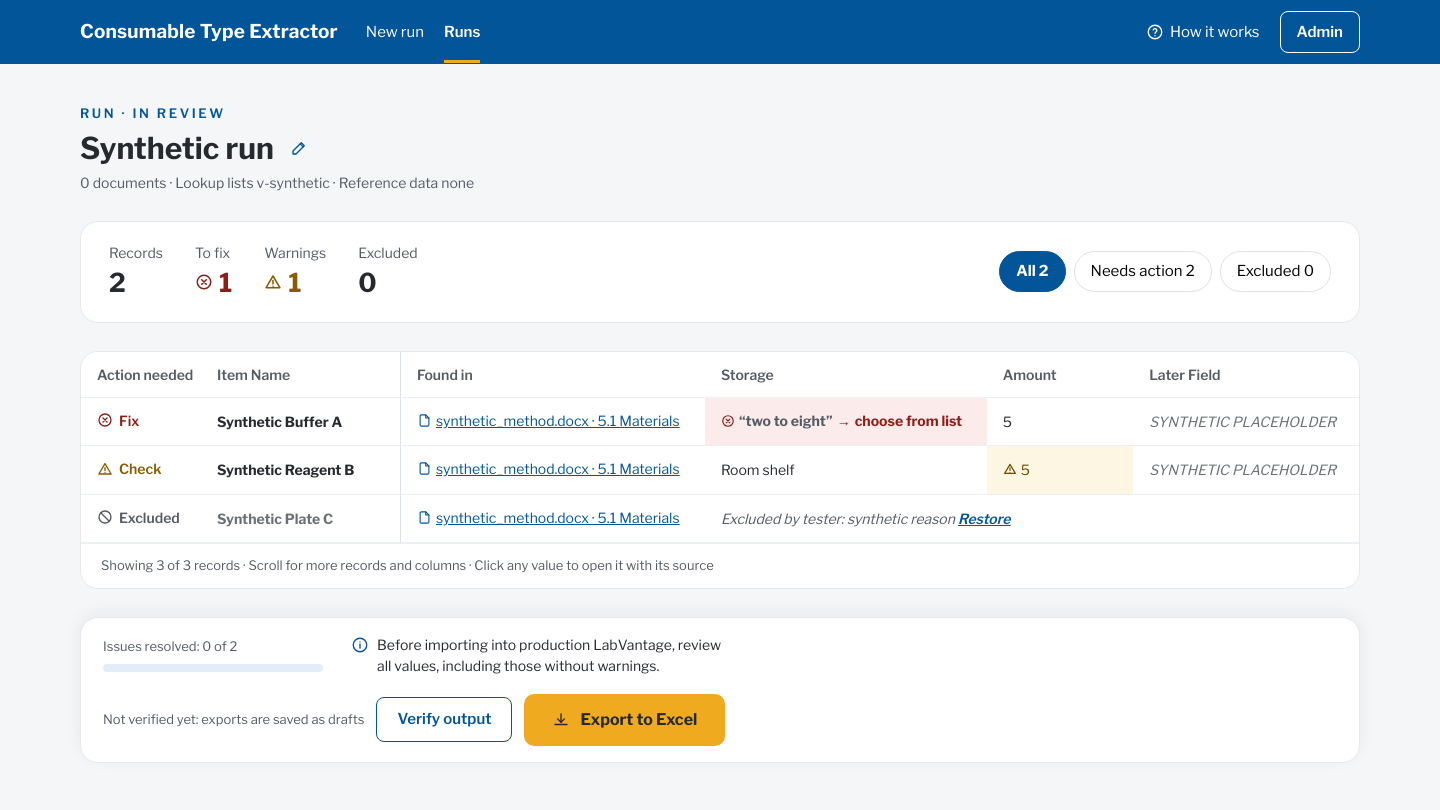
Test case: Review grid › filters to records that need action and to excluded records
The image size is (1440, 810).
Expected: the text "Synthetic Plate C" is shown, x1=217 y1=508 x2=333 y2=529
Expected: the text "Excluded by tester: synthetic reason Restore" is shown, x1=705 y1=494 x2=1359 y2=543
Step 1. Click the button "Needs action 2" → (1143, 272), box x1=1074 y1=251 x2=1212 y2=292
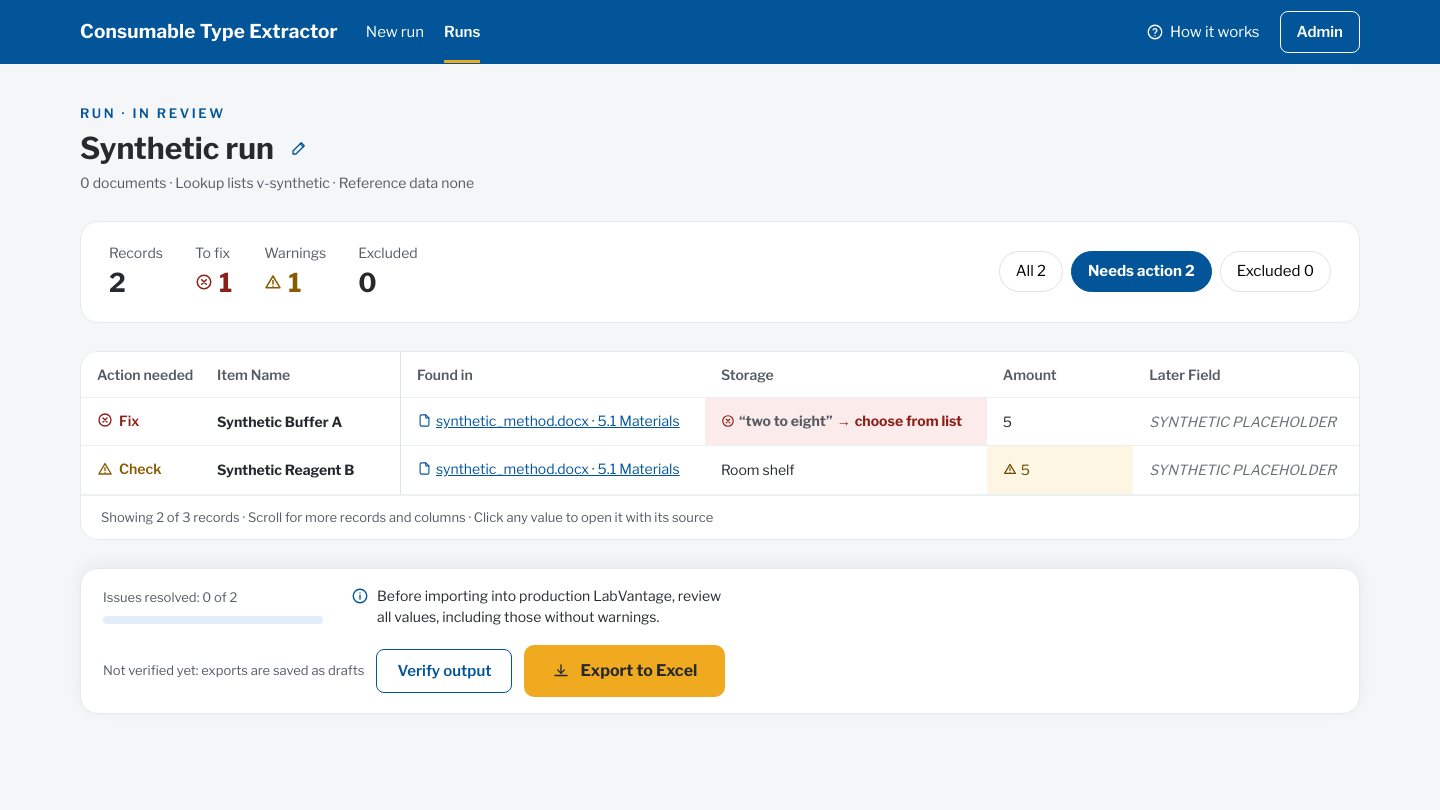
Result: the text "Synthetic Plate C" is gone
Step 2. Click the button "Excluded 0" → (1275, 272), box x1=1220 y1=251 x2=1331 y2=292
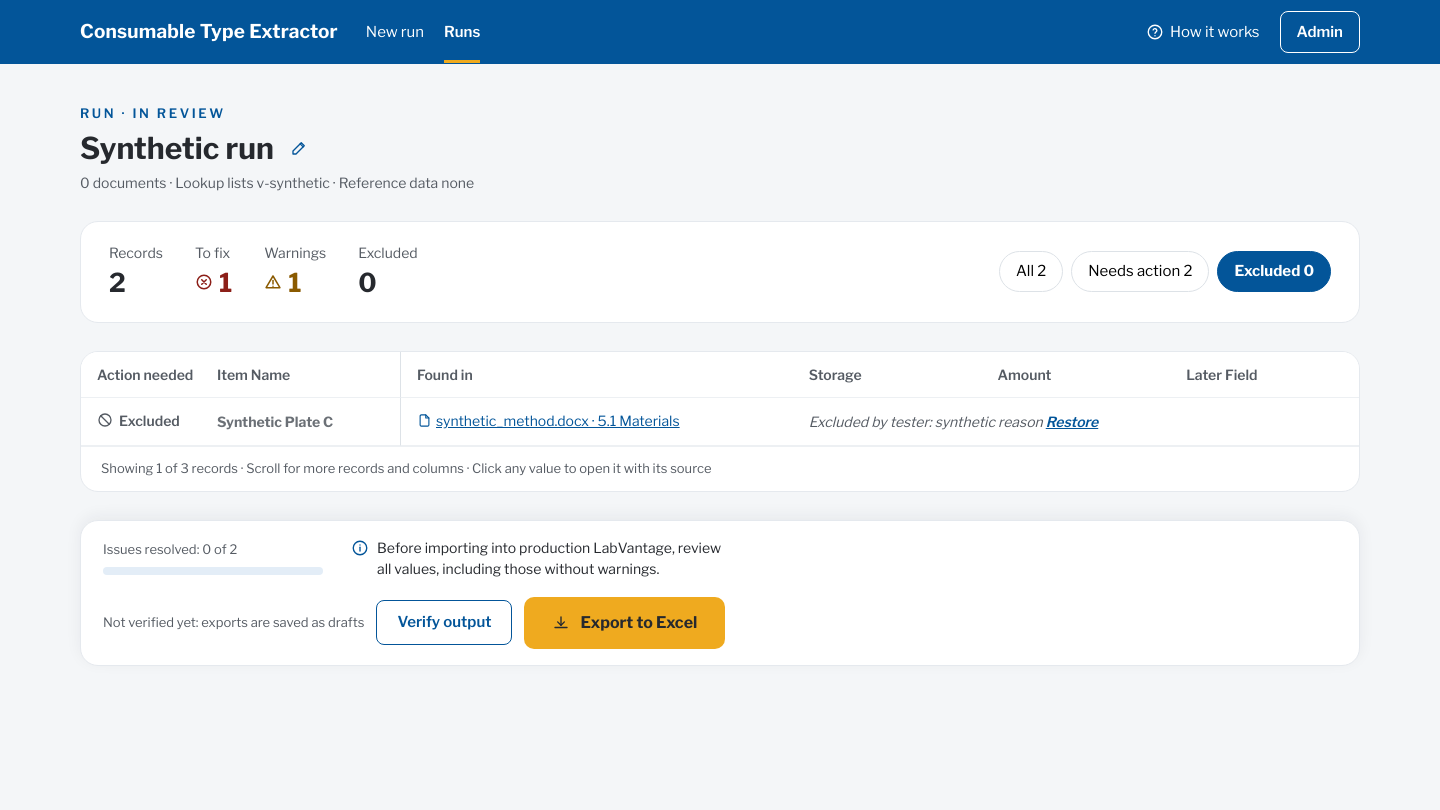
Result: the button "Synthetic Buffer A" is gone
Result: the text "Synthetic Plate C" is shown at x1=217 y1=411 x2=333 y2=432
